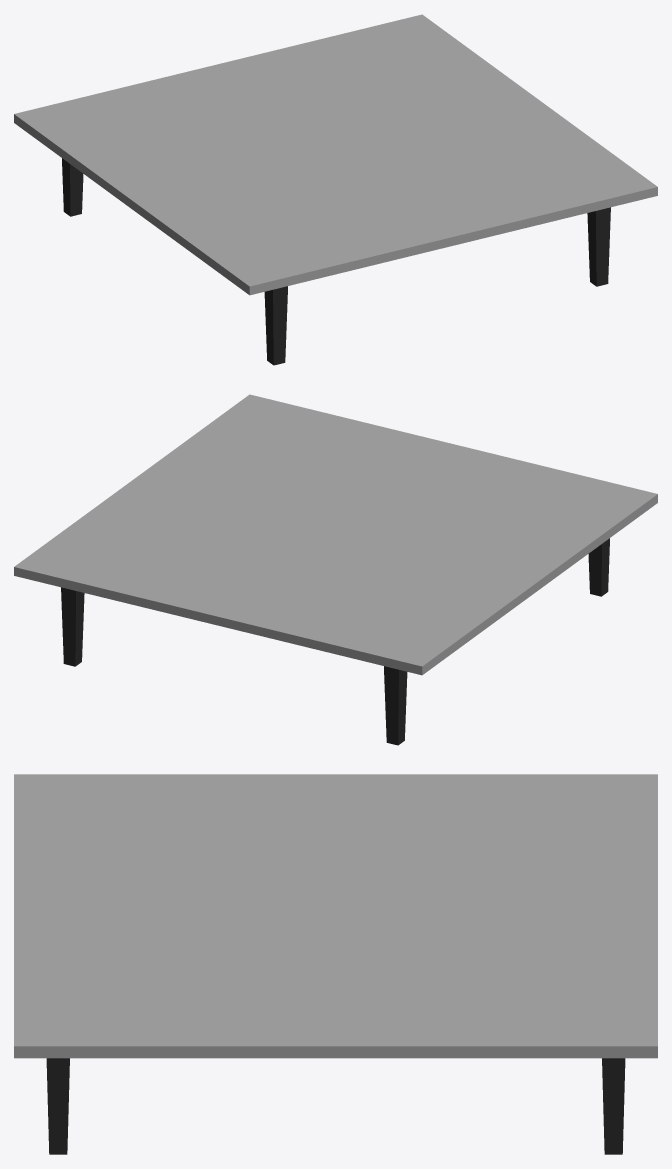
File: Table_9.fbx
3 views of the same model, one above another, from view 1: azimuth 30°, elevation 25°; view 2: azimuth 150°, elevation 25°; view 3: azimuth 270°, elevation 25° (orthographic). The views are drawn at different scales.
Visible parts, largest first — view 1: Table_9; view 2: Table_9; view 3: Table_9.
Part boxes in pixels (x1=…): Table_9: x1=14, y1=14, x2=657, y2=365; Table_9: x1=14, y1=394, x2=657, y2=745; Table_9: x1=14, y1=774, x2=657, y2=1154.
Bounding box in the file's own units: 0.6682 × 0.1524 × 0.6682.
